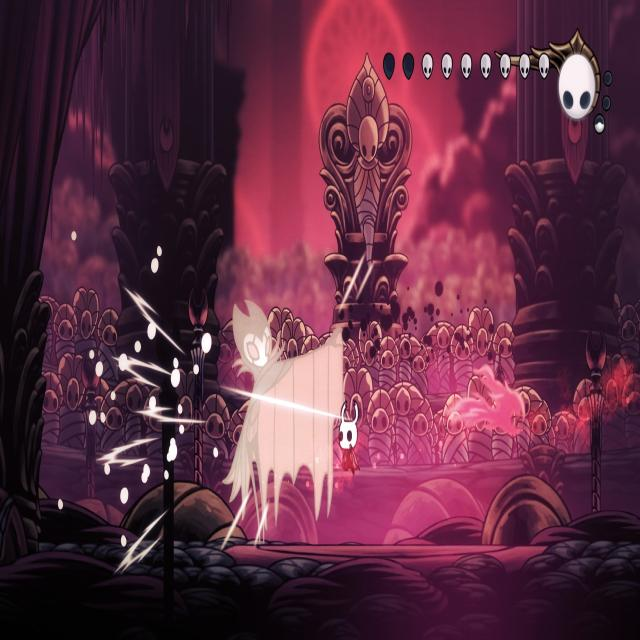Fire Bat: (446, 367, 525, 436)
Open Cloak: (219, 300, 353, 548)
Player: (333, 392, 361, 472)
